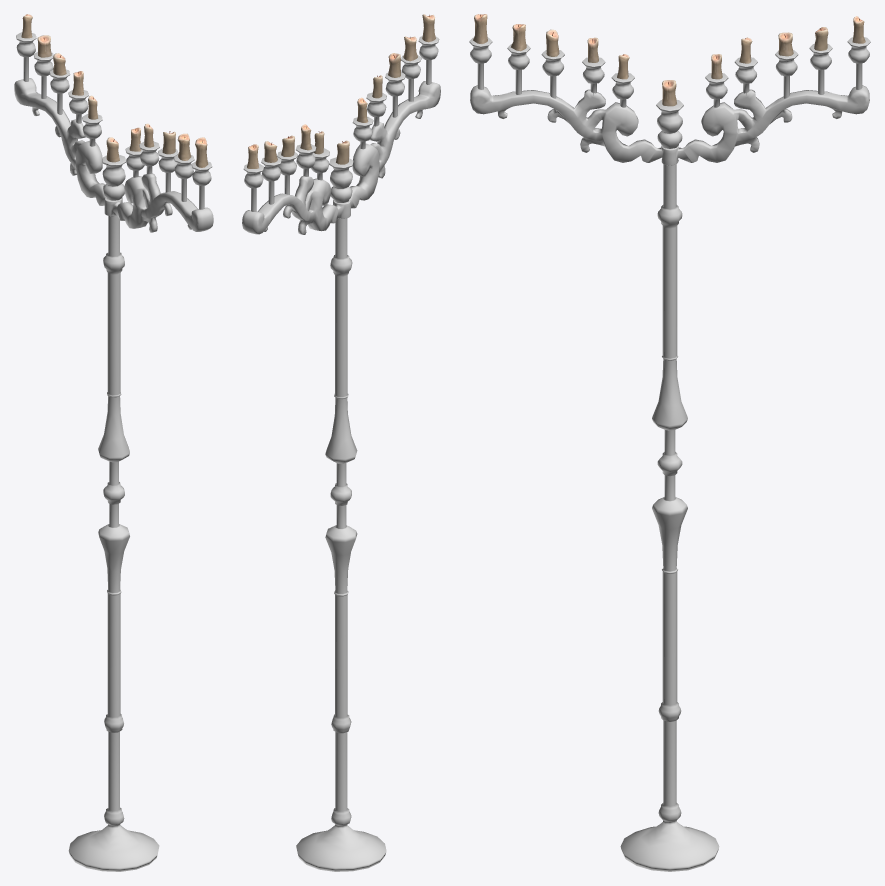
Rendered from SM_CandleHolder_A.fbx.
3 renders of one model, left to right at view 1: azimuth 30°, elevation 25°; view 2: azimuth 150°, elevation 25°; view 3: azimuth 270°, elevation 25°, orthographic. The views are drawn at different scales.
Parts seen in each view (by area): view 1: SM_CandleHolder_A_LOD0; view 2: SM_CandleHolder_A_LOD0; view 3: SM_CandleHolder_A_LOD0.
Part boxes in pixels (x1,y1,x2,y2): SM_CandleHolder_A_LOD0: [14, 14, 213, 871]; SM_CandleHolder_A_LOD0: [242, 14, 440, 871]; SM_CandleHolder_A_LOD0: [469, 14, 870, 871].
Size of what is drawn, in the model's own units: 0.1938 by 1.81 by 0.7871.
